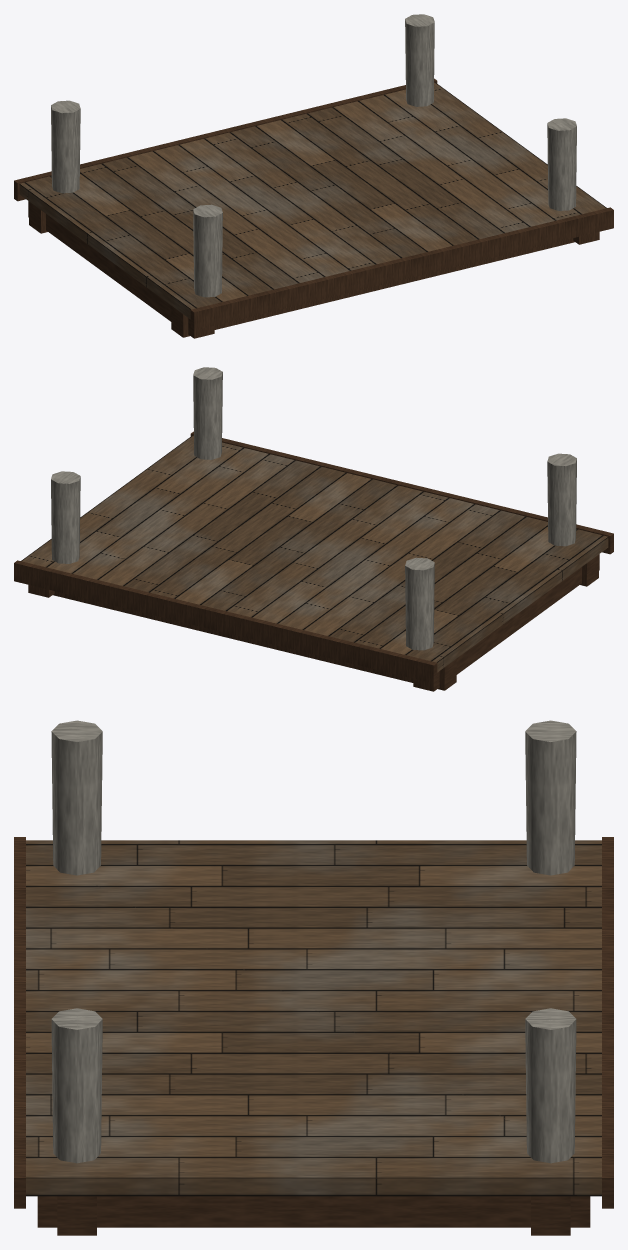
The model's file is SM_Art_Pier_405x300x100_P-75.gltf.
3 renders of one model, top to bottom at view 1: azimuth 30°, elevation 25°; view 2: azimuth 150°, elevation 25°; view 3: azimuth 270°, elevation 25°, orthographic. The views are drawn at different scales.
Parts seen in each view (by area): view 1: SM_Art_Pier_405x300x100_P-75; view 2: SM_Art_Pier_405x300x100_P-75; view 3: SM_Art_Pier_405x300x100_P-75.
Boxes of the visible parts, box(x1,y1,x2,y2) form: SM_Art_Pier_405x300x100_P-75: box(14, 14, 613, 338); SM_Art_Pier_405x300x100_P-75: box(14, 367, 613, 691); SM_Art_Pier_405x300x100_P-75: box(14, 720, 613, 1235).
Size of the model in its own units: 4.09 by 1.07 by 3.04.
Materials: 3 (3 with a texture image).
